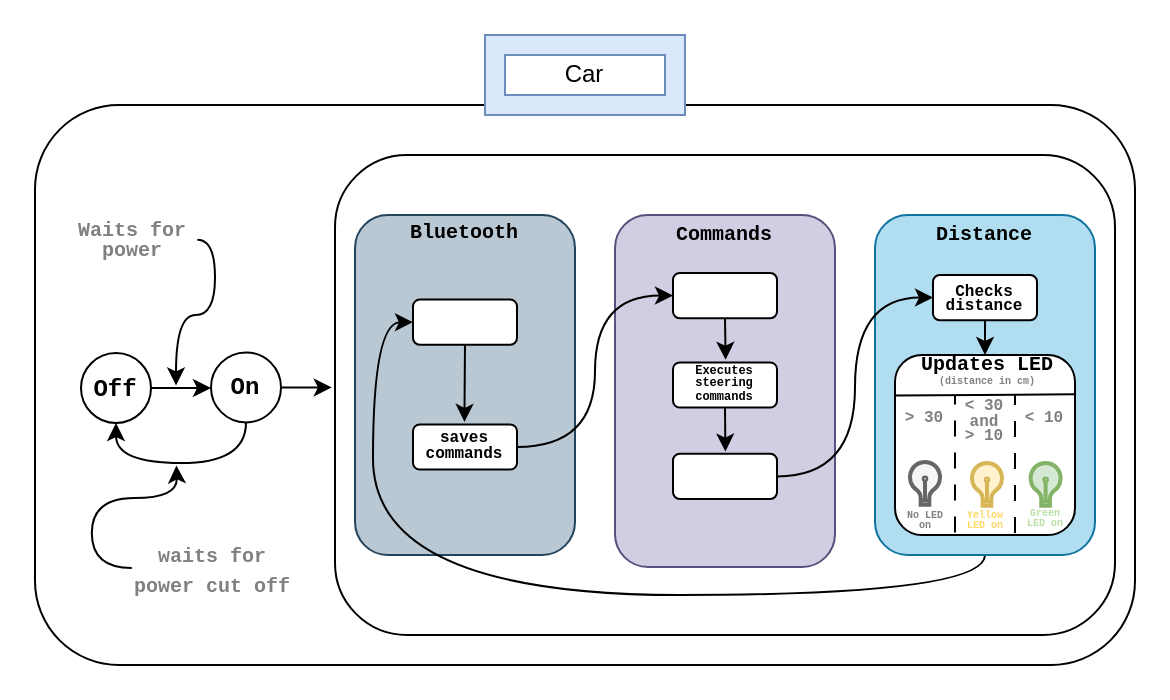
Some shapes in this 1170 by 700 pixel diagram are drawn without their labels. Here are the shapes that lost their labels. From the top down, the centre of each, then its label:
At point 724,294: "Executes drive commands".
At point 464,321: "Reads BT signal".
At point 724,475: "Executes hook commands".
